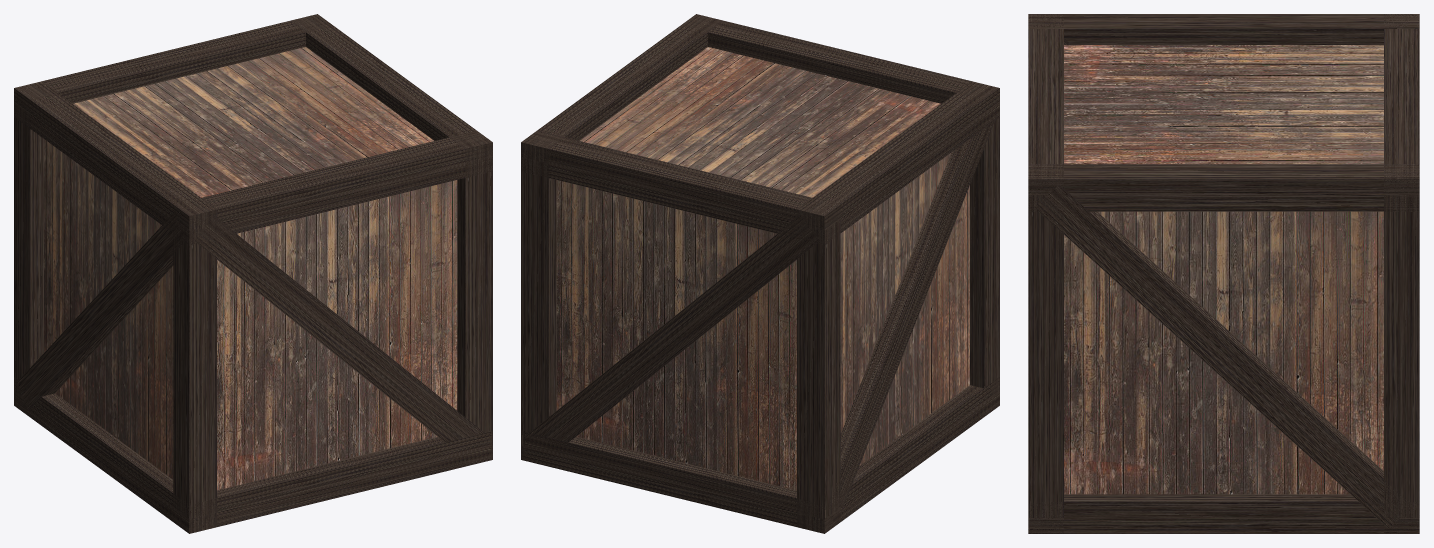
3 views of the same model, side by side, from view 1: azimuth 30°, elevation 25°; view 2: azimuth 150°, elevation 25°; view 3: azimuth 270°, elevation 25° (orthographic). The views are drawn at different scales.
Parts seen in each view (by area): view 1: もとの, 横, たて_2_3, naname, たて, たて_2_2, naname_3, たて_1_2, たて_2, たて_3; view 2: もとの, 横, たて_1_2, naname_1, naname_3, たて_3_2, たて, たて_2_3, たて_2, たて_3; view 3: もとの, 横, naname_2, たて_2, たて_1, たて, たて_1_2, たて_2_3.
Part boxes in pixels (x1,y1,x2,y2): もとの: [44, 47, 457, 490]; 横: [14, 103, 492, 519]; たて_2_3: [175, 130, 492, 244]; naname: [194, 215, 484, 442]; たて: [14, 81, 216, 244]; たて_2_2: [174, 431, 492, 532]; naname_3: [16, 211, 186, 410]; たて_1_2: [15, 14, 332, 121]; たて_2: [290, 14, 492, 176]; たて_3: [14, 378, 216, 533]; もとの: [556, 47, 969, 490]; 横: [521, 105, 999, 519]; たて_1_2: [521, 130, 840, 244]; naname_1: [526, 215, 819, 442]; naname_3: [829, 114, 996, 514]; たて_3_2: [521, 431, 840, 533]; たて: [797, 81, 999, 244]; たて_2_3: [681, 14, 999, 103]; たて_2: [521, 14, 722, 177]; たて_3: [797, 379, 999, 533]; もとの: [1064, 45, 1383, 494]; 横: [1028, 195, 1419, 517]; naname_2: [1035, 184, 1407, 528]; たて_2: [1028, 164, 1419, 211]; たて_1: [1028, 494, 1419, 533]; たて: [1028, 14, 1419, 44]; たて_1_2: [1384, 14, 1419, 211]; たて_2_3: [1028, 14, 1063, 211].
Size of the model in its own units: 220 by 220 by 220.
2 materials, 2 textured.
